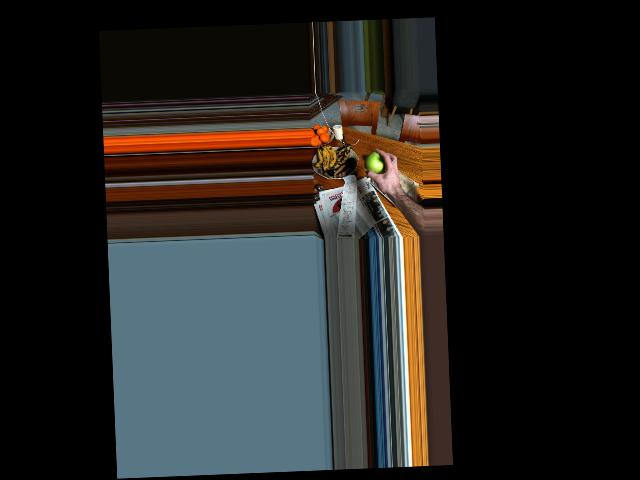apple: (363, 147, 388, 178)
